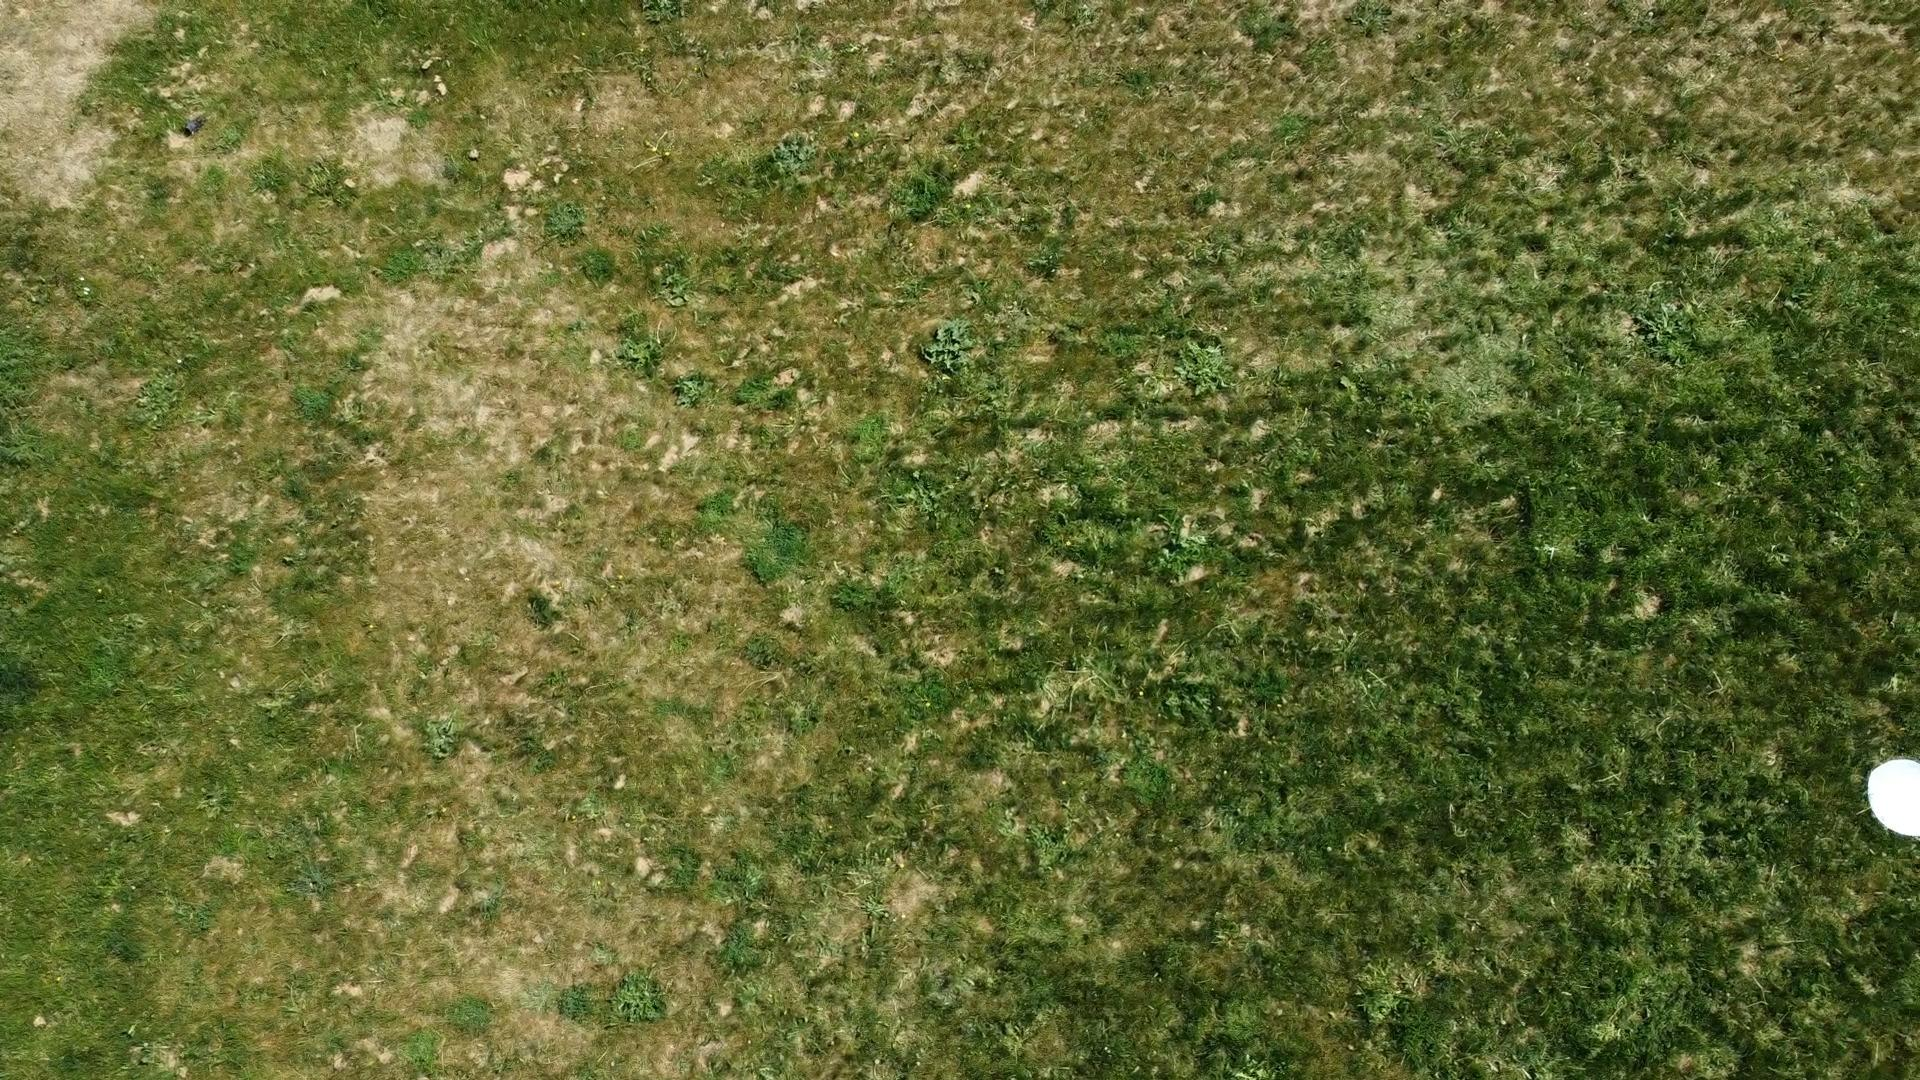Blue: (1866, 752, 1920, 851)
